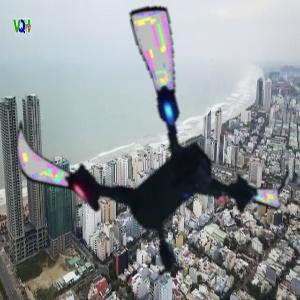drone: (2, 10, 287, 295)
